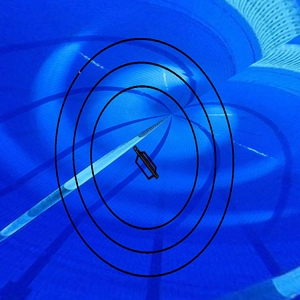circle: (52, 36, 238, 279)
submarine: (130, 144, 164, 182)
